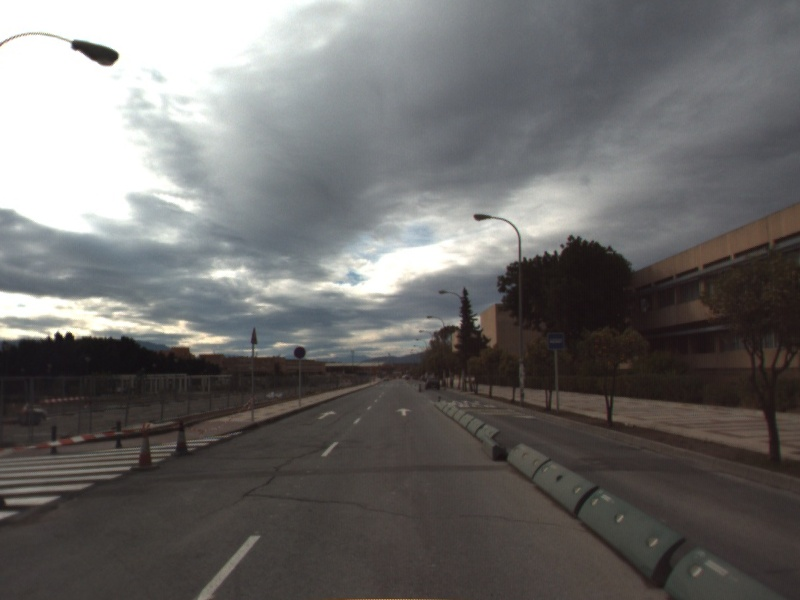STRAIGHT: (315, 408, 338, 421), (393, 406, 415, 418)
